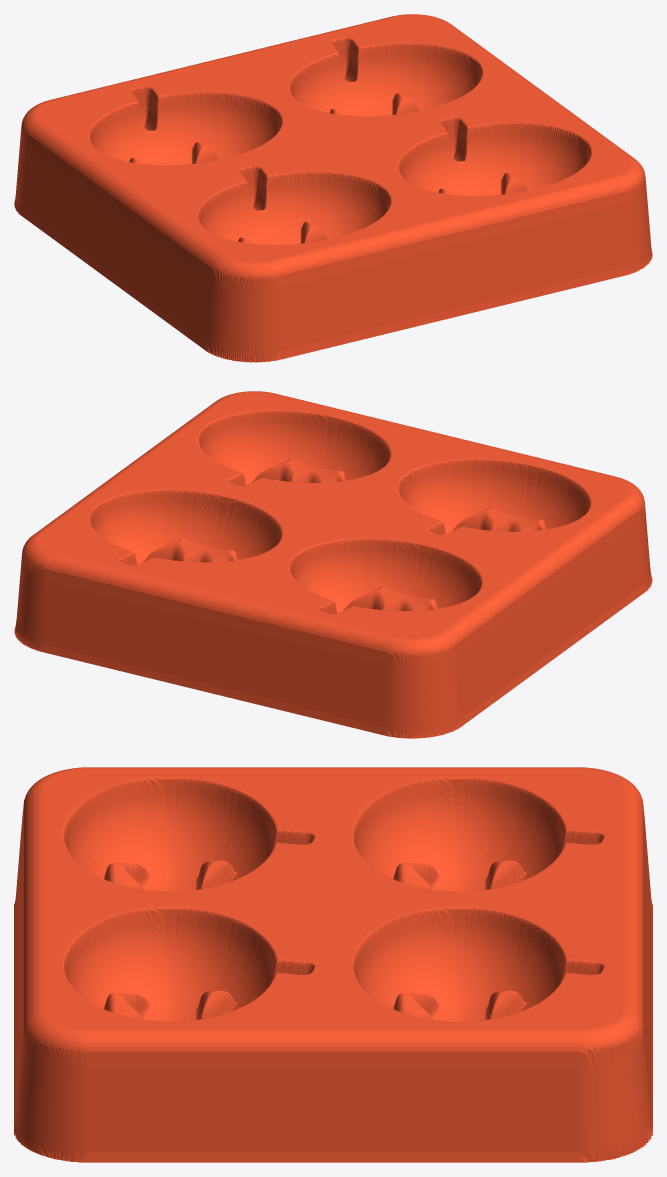
The model's file is mold.glb.
3 views of the same model, one above another, from view 1: azimuth 30°, elevation 25°; view 2: azimuth 150°, elevation 25°; view 3: azimuth 270°, elevation 25° (orthographic). The views are drawn at different scales.
Visible parts, largest first — view 1: geometry_0; view 2: geometry_0; view 3: geometry_0.
Boxes of the visible parts, x1,y1,x2,y2 form: geometry_0: [14, 14, 652, 362]; geometry_0: [14, 391, 652, 738]; geometry_0: [14, 767, 652, 1162].
Bounding box in the file's own units: 0.0808 × 0.0159 × 0.0764.
